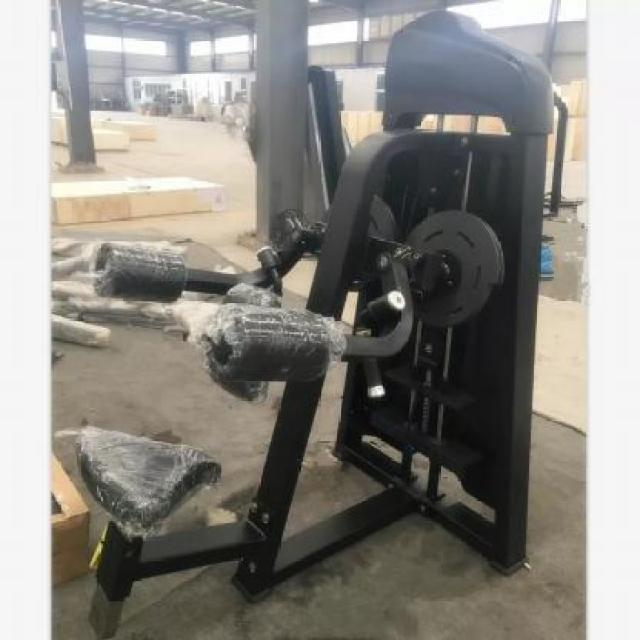lateral raises machine: (75, 14, 554, 600)
